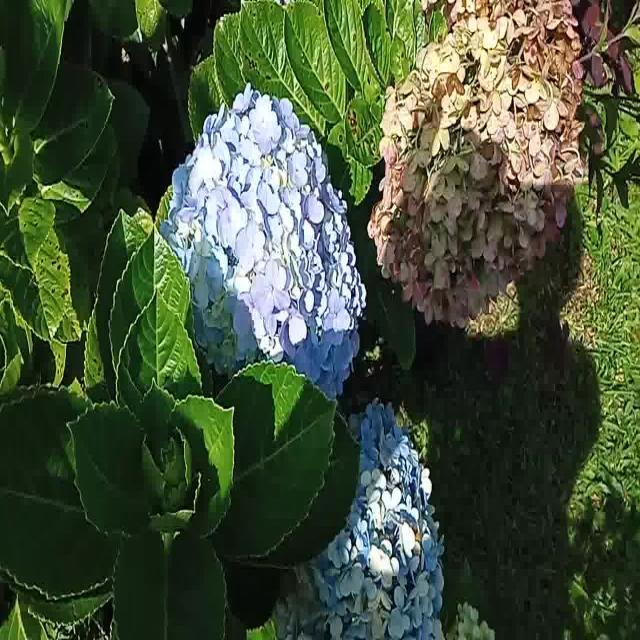Flower: (153, 79, 363, 397)
